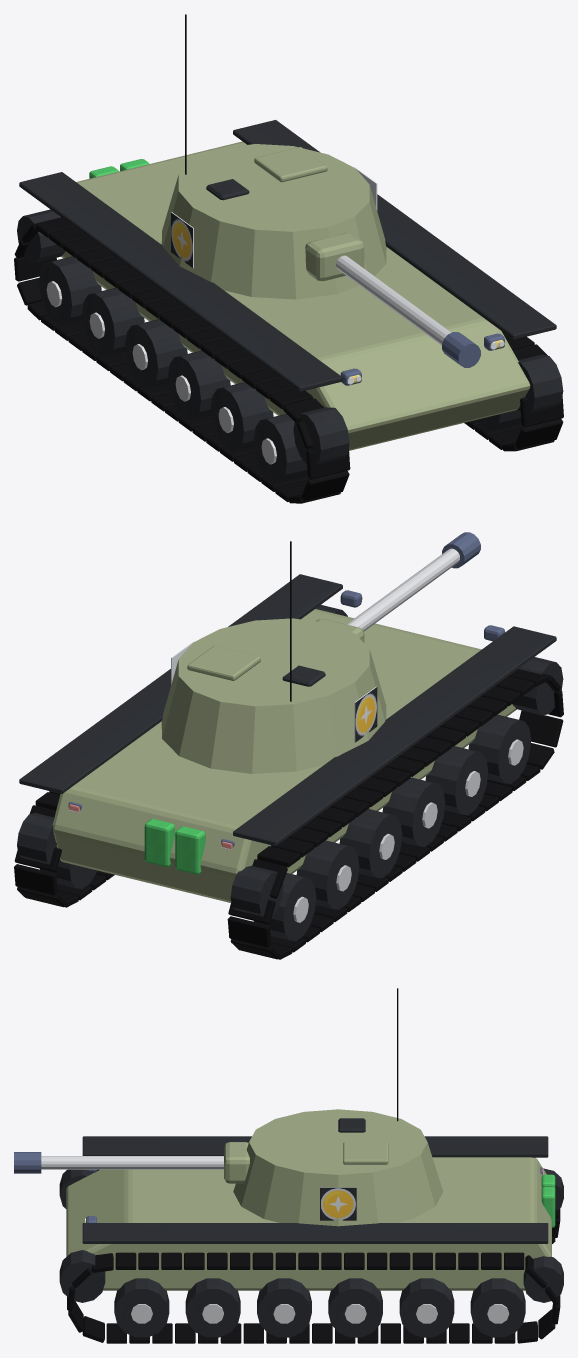
Rendered from V08_tank_v3.glb.
The picture shows the model from 3 angles, top to bottom: view 1: azimuth 30°, elevation 25°; view 2: azimuth 150°, elevation 25°; view 3: azimuth 270°, elevation 25°; orthographic projection. The views are drawn at different scales.
Visible parts, largest first — view 1: Static, Body, Barrel, Trunk; view 2: Static, Body, Barrel, Trunk; view 3: Static, Body, Barrel, Trunk.
Boxes of the visible parts, bbox=[...] form: Static: bbox=[14, 14, 563, 503]; Body: bbox=[57, 141, 530, 450]; Barrel: bbox=[305, 233, 480, 367]; Trunk: bbox=[254, 147, 327, 182]; Static: bbox=[14, 541, 563, 959]; Body: bbox=[52, 609, 516, 902]; Barrel: bbox=[316, 532, 480, 642]; Trunk: bbox=[187, 645, 260, 680]; Static: bbox=[59, 988, 563, 1343]; Body: bbox=[66, 1109, 551, 1290]; Barrel: bbox=[14, 1142, 249, 1183]; Trunk: bbox=[343, 1141, 388, 1164].
Size of what is drawn, in the model's own units: 2.7 by 3.42 by 6.02.
Materials: 2 (1 with a texture image).
